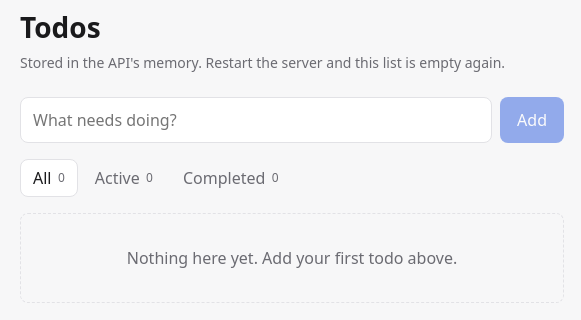
Test case: TodoApp › adds a todo and clears the input
Type "Buy milk" into the field labelled "What needs doing?" at {"x": 256, "y": 120}, box x1=20 y1=97 x2=492 y2=143
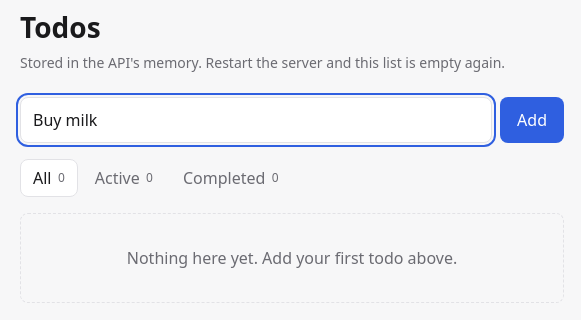
Click the button "Add" at {"x": 532, "y": 120}, box x1=500 y1=97 x2=564 y2=143
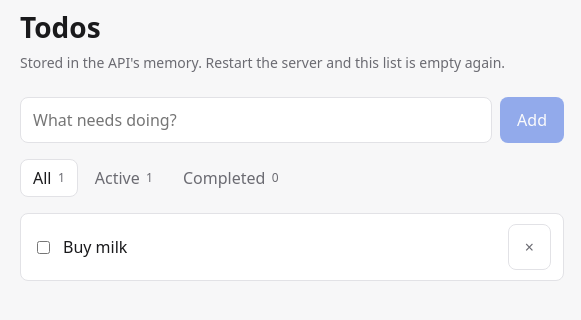
Expected: the text "Buy milk" is shown, x1=63 y1=235 x2=127 y2=259
Expected: the field labelled "What needs doing?" is empty, x1=20 y1=97 x2=492 y2=143
